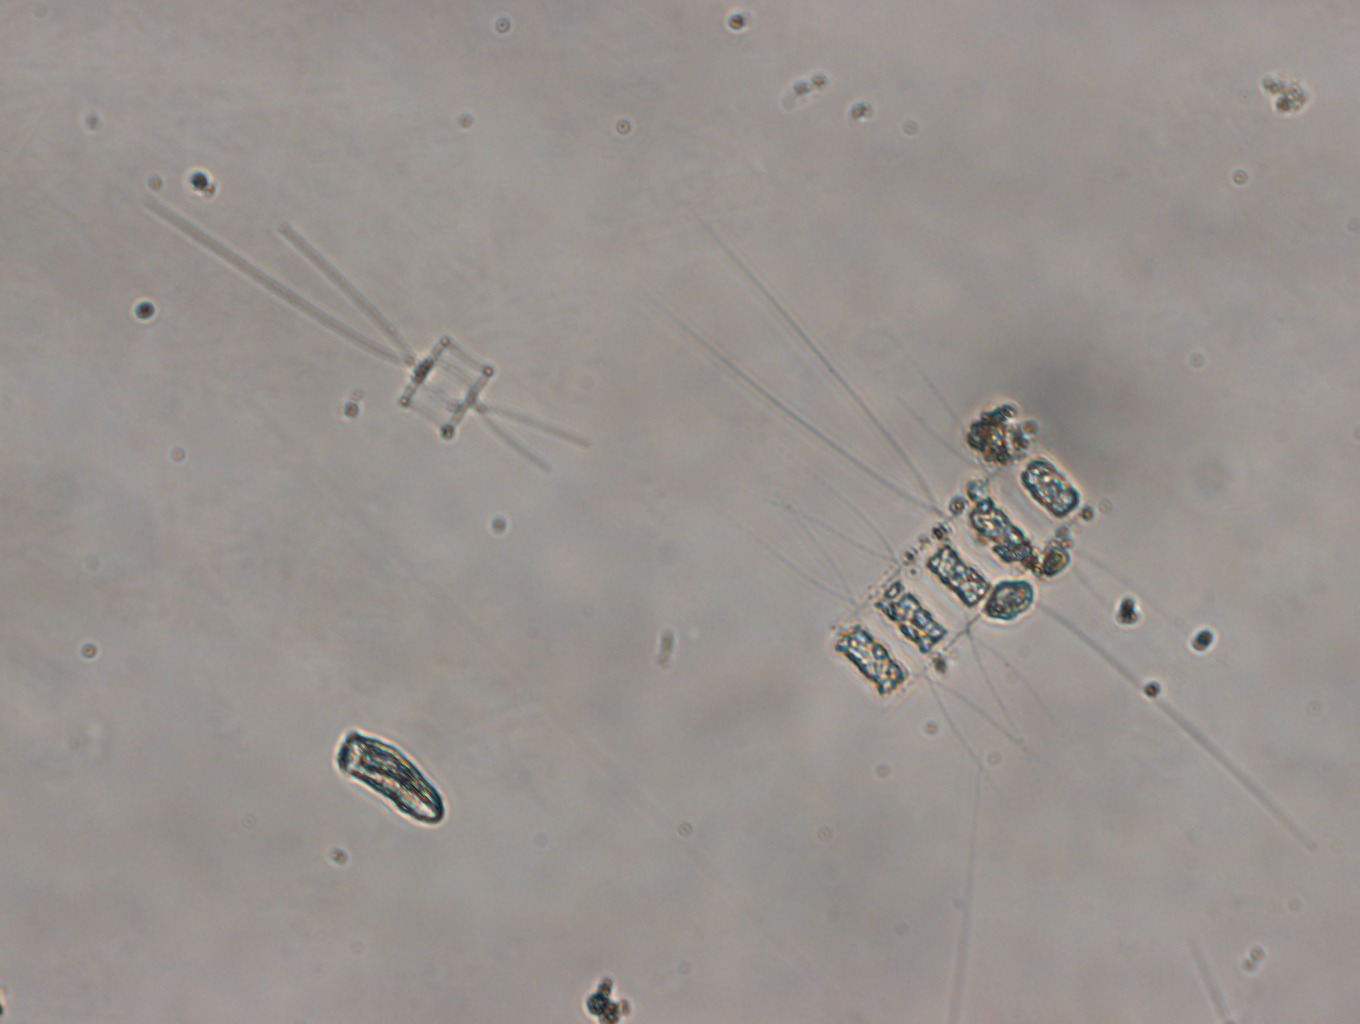chaetoceros: (644, 203, 1319, 852), (135, 193, 590, 472)
